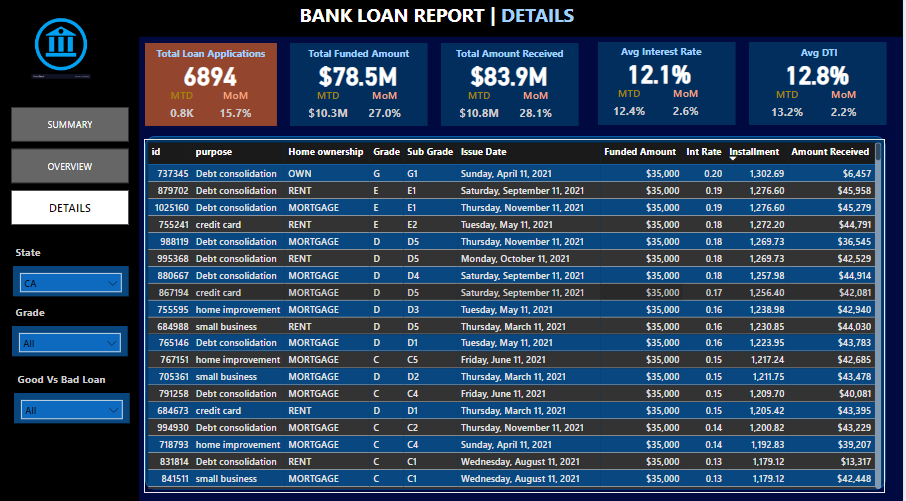

The page's visual inventory and layout, read from the dashboard file:
{"tool":"powerbi","page":{"name":"DETAILS","canvas":[1280,720],"ordinal":2},"visuals":[{"type":"shape","box":[0,0,1280,55],"z":0},{"type":"shape","box":[849.7,62.4,195,117.5],"z":0,"group":"g4"},{"type":"shape","box":[1063.2,62.8,195.5,117.6],"z":0,"group":"g5"},{"type":"shape","box":[412.4,63.4,195.5,117.6],"z":0,"group":"g2"},{"type":"shape","box":[626,63.8,195.5,117.6],"z":0,"group":"g3"},{"type":"shape","box":[207.3,64.5,187.2,117.6],"z":0,"group":"g1"},{"type":"slicer","fields":{"Values":["bank_loan_data.address_state"]},"box":[19.5,379.4,164.4,43.3],"z":0,"group":"g6"},{"type":"slicer","fields":{"Values":["bank_loan_data.grade"]},"box":[18.6,465,164.3,42.9],"z":0,"group":"g9"},{"type":"slicer","fields":{"Values":["bank_loan_data.Good vs Bad Loan"]},"box":[21.4,559.1,164.3,42.9],"z":0,"group":"g10"},{"type":"shape","box":[1.5,0.3,195.5,117.6],"z":1000},{"type":"card","fields":{"Values":["bank_loan_data.Avg Interest Rate"]},"box":[838.3,82.2,195.4,46.2],"z":1000,"group":"g4"},{"type":"card","fields":{"Values":["bank_loan_data.Avg DTI"]},"box":[1061.7,83.9,195.4,46.2],"z":1000,"group":"g5"},{"type":"card","fields":{"Values":["bank_loan_data.Total Funded Amount"]},"box":[410.9,84.5,195.4,46.2],"z":1000,"group":"g2"},{"type":"card","fields":{"Values":["bank_loan_data.Total Amount Received"]},"box":[624.5,84.9,195.4,46.2],"z":1000,"group":"g3"},{"type":"card","fields":{"Values":["bank_loan_data.Total Loan Application"]},"box":[205.8,85.6,187.1,46.2],"z":1000,"group":"g1"},{"type":"textbox","box":[18.6,344.3,66.7,31.1],"z":1000,"group":"g6"},{"type":"textbox","box":[840,60.8,195,35],"z":2000,"group":"g4"},{"type":"textbox","box":[1063.4,62.5,195,35],"z":2000,"group":"g5"},{"type":"textbox","box":[412.6,63.1,195,35],"z":2000,"group":"g2"},{"type":"textbox","box":[626.2,63.5,195,35],"z":2000,"group":"g3"},{"type":"textbox","box":[207.4,64.2,186.7,35],"z":2000,"group":"g1"},{"type":"shape","box":[207.1,195.7,1050,501.4],"z":2000},{"type":"shape","box":[0,0,198.6,722.9],"z":3000},{"type":"card","title":"MTD","fields":{"Values":["bank_loan_data.MTD Avg Int Rate"]},"box":[856.9,124.4,73.8,53.8],"z":3000,"group":"g4"},{"type":"card","title":"MTD","fields":{"Values":["bank_loan_data.MTD Avg DTI"]},"box":[1080.3,126.1,73.8,53.8],"z":3000,"group":"g5"},{"type":"card","title":"MTD","fields":{"Values":["bank_loan_data.MTD Funded Amomunt"]},"box":[429.5,126.7,73.8,53.8],"z":3000,"group":"g2"},{"type":"card","title":"MTD","fields":{"Values":["bank_loan_data.MTD Amomunt Received"]},"box":[643.1,127.1,73.8,53.8],"z":3000,"group":"g3"},{"type":"card","title":"MTD","fields":{"Values":["bank_loan_data.MTD Loan Applications"]},"box":[223.6,127.8,70.7,53.8],"z":3000,"group":"g1"},{"type":"textbox","box":[420.9,0,439.4,46.8],"z":4000},{"type":"card","title":"MoM","fields":{"Values":["bank_loan_data.MOM Avg Int Rate"]},"box":[937.7,124.4,73.1,53.8],"z":4000,"group":"g4"},{"type":"card","title":"MoM","fields":{"Values":["bank_loan_data.MOM Avg DTI"]},"box":[1161.1,126.1,73.1,53.8],"z":4000,"group":"g5"},{"type":"card","title":"MoM","fields":{"Values":["bank_loan_data.MOM Total Funded Amount"]},"box":[510.3,126.7,73.1,53.8],"z":4000,"group":"g2"},{"type":"card","title":"MoM","fields":{"Values":["bank_loan_data.MOM Total Amount Received"]},"box":[723.9,127.1,73.1,53.8],"z":4000,"group":"g3"},{"type":"card","title":"MoM","fields":{"Values":["bank_loan_data.MOM Loan Application"]},"box":[301,127.8,70,53.8],"z":4000,"group":"g1"},{"type":"group","id":"g1","title":"Group 1","box":[205.8,64.2,188.3,117.5],"z":5000},{"type":"group","id":"g2","title":"Group 1","box":[410.9,63.1,196.9,117.7],"z":6000},{"type":"group","id":"g3","title":"Group 1","box":[624.5,63.5,197,117.9],"z":7000},{"type":"group","id":"g4","title":"Group 1","box":[838.3,60.8,206.7,119.2],"z":8000},{"type":"group","id":"g5","title":"Group 1","box":[1061.7,62.5,196.7,117.5],"z":9000},{"type":"group","id":"g6","title":"Group 2","box":[18.6,344.3,165.4,78.5],"z":10000},{"type":"group","id":"g7","title":"Group 4","box":[18.6,430,164.3,77.1],"z":11000},{"type":"group","id":"g8","title":"Group 4","box":[21.4,524.3,164.3,77.1],"z":12000},{"type":"tableEx","fields":{"Values":["bank_loan_data.id","bank_loan_data.purpose","bank_loan_data.home_ownership","bank_loan_data.grade","bank_loan_data.sub_grade","bank_loan_data.issue_date","bank_loan_data.Total Funded Amount","Sum(bank_loan_data.int_rate)","Sum(bank_loan_data.installment)","bank_loan_data.Total Amount Received"]},"box":[206.9,195.6,1050.2,501.7],"z":13000},{"type":"pageNavigator","box":[17.1,154.3,167.1,167.1],"z":14000},{"type":"image","box":[37.1,18.6,101.4,101.4],"z":15000},{"type":"group","id":"g9","title":"Group 2","box":[18.6,465,164.3,42.9],"z":23000,"group":"g7"},{"type":"group","id":"g10","title":"Group 2","box":[21.4,559.1,164.3,42.9],"z":23000,"group":"g8"},{"type":"textbox","box":[18.7,430,77.1,34.3],"z":27000,"group":"g7"},{"type":"textbox","box":[21.8,524.3,152.9,34.3],"z":27000,"group":"g8"}]}

Visuals, with their boxes in screenshot pixels (x1, y1, x2, y2), scaled from the page's 1280x720 canvas onto the 906x501 screenshot:
shape: l=0, t=0, r=905, b=38
shape: l=601, t=43, r=739, b=125
shape: l=753, t=44, r=891, b=126
shape: l=292, t=44, r=430, b=126
shape: l=443, t=44, r=581, b=126
shape: l=147, t=45, r=279, b=127
slicer - bank_loan_data.address_state: l=14, t=264, r=130, b=294
slicer - bank_loan_data.grade: l=13, t=324, r=129, b=353
slicer - bank_loan_data.Good vs Bad Loan: l=15, t=389, r=131, b=419
shape: l=1, t=0, r=139, b=82
card - bank_loan_data.Avg Interest Rate: l=593, t=57, r=732, b=89
card - bank_loan_data.Avg DTI: l=751, t=58, r=890, b=91
card - bank_loan_data.Total Funded Amount: l=291, t=59, r=429, b=91
card - bank_loan_data.Total Amount Received: l=442, t=59, r=580, b=91
card - bank_loan_data.Total Loan Application: l=146, t=60, r=278, b=92
textbox: l=13, t=240, r=60, b=261
textbox: l=595, t=42, r=733, b=67
textbox: l=753, t=43, r=891, b=68
textbox: l=292, t=44, r=430, b=68
textbox: l=443, t=44, r=581, b=69
textbox: l=147, t=45, r=279, b=69
shape: l=147, t=136, r=890, b=485
shape: l=0, t=0, r=141, b=500
"MTD" card: l=607, t=87, r=659, b=124
"MTD" card: l=765, t=88, r=817, b=125
"MTD" card: l=304, t=88, r=356, b=126
"MTD" card: l=455, t=88, r=507, b=126
"MTD" card: l=158, t=89, r=208, b=126
textbox: l=298, t=0, r=609, b=33
"MoM" card: l=664, t=87, r=715, b=124
"MoM" card: l=822, t=88, r=874, b=125
"MoM" card: l=361, t=88, r=413, b=126
"MoM" card: l=512, t=88, r=564, b=126
"MoM" card: l=213, t=89, r=263, b=126
"Group 1" group: l=146, t=45, r=279, b=126
"Group 1" group: l=291, t=44, r=430, b=126
"Group 1" group: l=442, t=44, r=581, b=126
"Group 1" group: l=593, t=42, r=740, b=125
"Group 1" group: l=751, t=43, r=891, b=125
"Group 2" group: l=13, t=240, r=130, b=294
"Group 4" group: l=13, t=299, r=129, b=353
"Group 4" group: l=15, t=365, r=131, b=418
tableEx - bank_loan_data.id x bank_loan_data.purpose: l=146, t=136, r=890, b=485
pageNavigator: l=12, t=107, r=130, b=224
image: l=26, t=13, r=98, b=84
"Group 2" group: l=13, t=324, r=129, b=353
"Group 2" group: l=15, t=389, r=131, b=419
textbox: l=13, t=299, r=68, b=323
textbox: l=15, t=365, r=124, b=389
